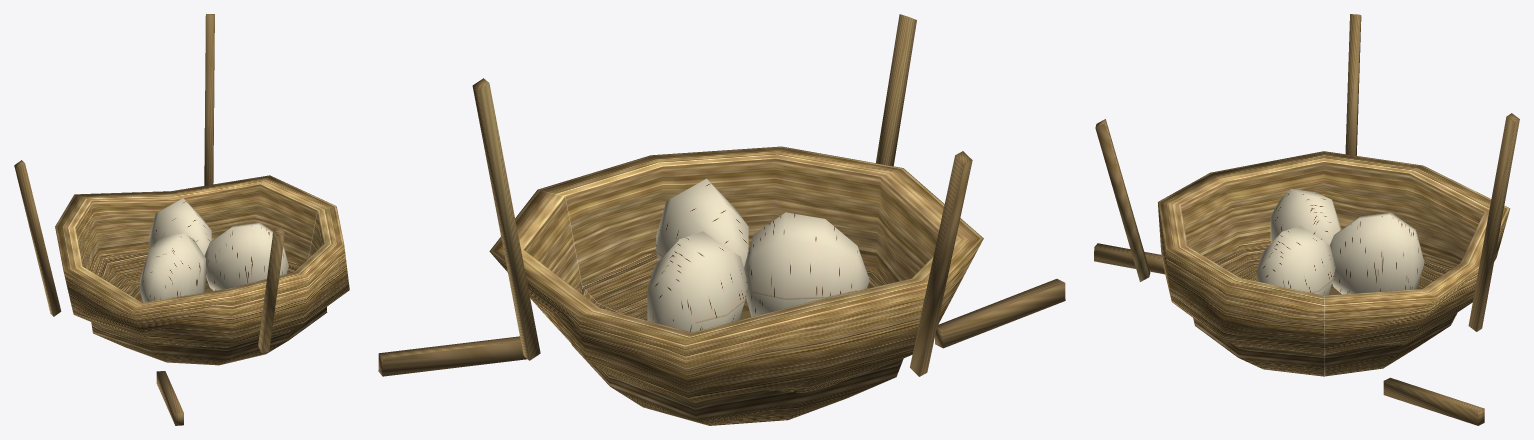
File: toad-prop-nest.glb
3 renders of one model, left to right at view 1: azimuth 30°, elevation 25°; view 2: azimuth 150°, elevation 25°; view 3: azimuth 270°, elevation 25°, orthographic. The views are drawn at different scales.
Parts seen in each view (by area): view 1: nest; view 2: nest; view 3: nest.
Part boxes in pixels (x1,y1,x2,y2): nest: (14,14,349,425); nest: (378,14,1065,425); nest: (1094,14,1519,425).
Size of the model in its own units: 0.03 by 0.02 by 0.0277.
Materials: 1 (1 with a texture image).
